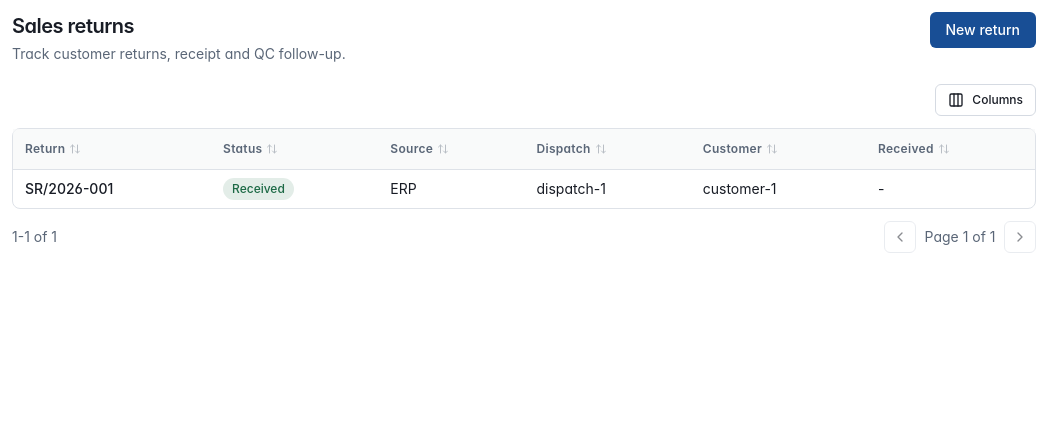
Test: SalesReturnsPage › shows close and cancel for a received return
Step 1. Click the button "SR/2026-001" → (69, 188), box [25, 178, 113, 198]
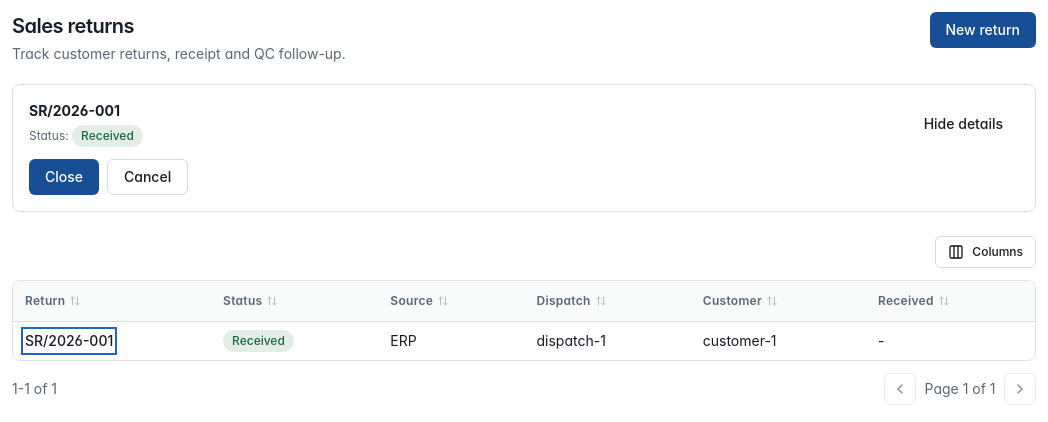
expect the button "Close" is shown: met, box [29, 159, 99, 195]
expect the button "Cancel" is shown: met, box [107, 159, 188, 195]
